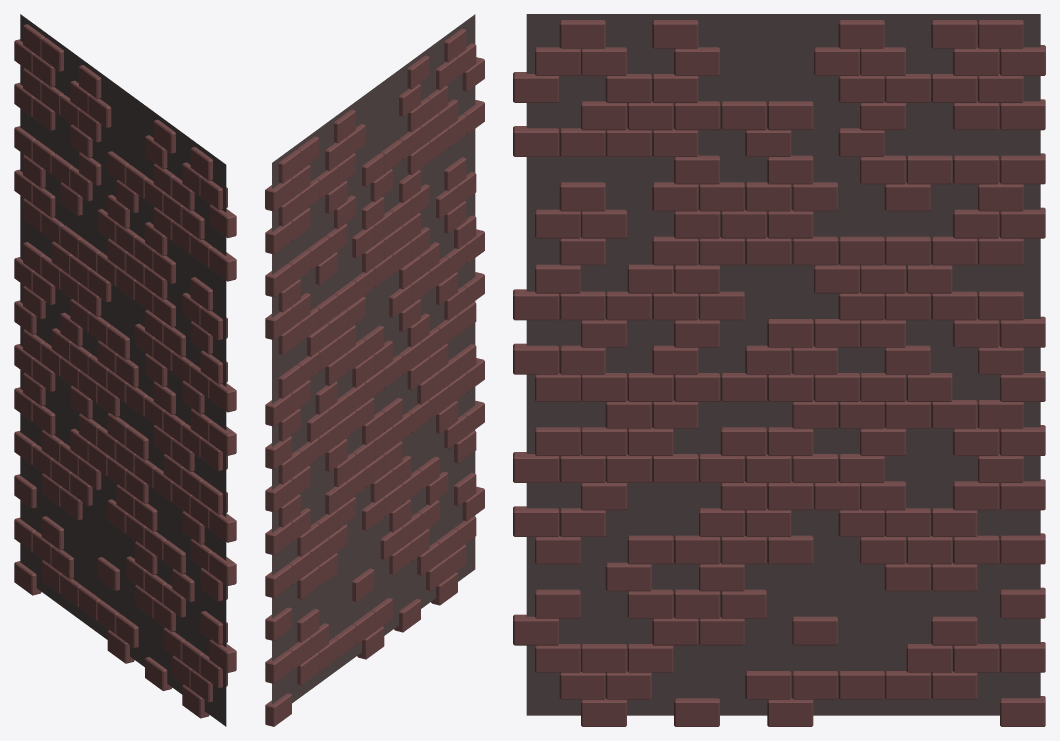
File: Modulo_Pared_Ladrillos_04.fbx
3 renders of one model, left to right at view 1: azimuth 30°, elevation 25°; view 2: azimuth 150°, elevation 25°; view 3: azimuth 270°, elevation 25°, orthographic. The views are drawn at different scales.
Visible parts, largest first — view 1: Modulo_Pared_Ladrillos_04; view 2: Modulo_Pared_Ladrillos_04; view 3: Modulo_Pared_Ladrillos_04.
Boxes of the visible parts, x1=… form: Modulo_Pared_Ladrillos_04: x1=14, y1=14, x2=236, y2=726; Modulo_Pared_Ladrillos_04: x1=265, y1=14, x2=484, y2=726; Modulo_Pared_Ladrillos_04: x1=513, y1=14, x2=1045, y2=726.
Bounding box in the file's own units: 0.3387 × 18.22 × 12.39.
